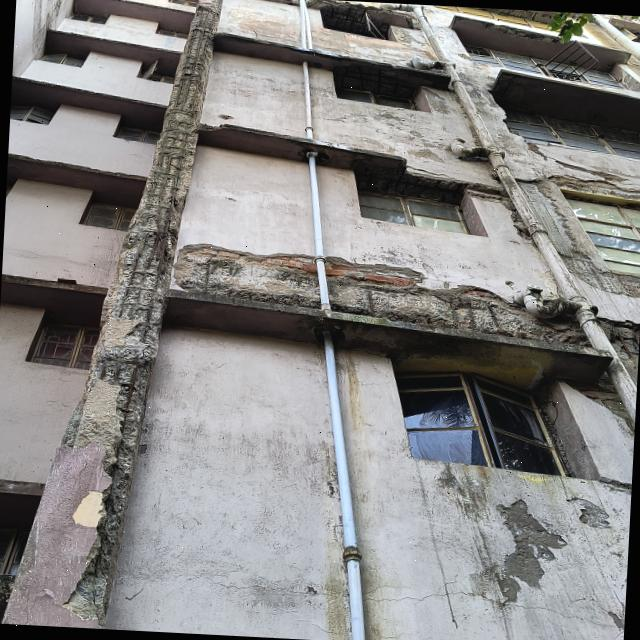peeling: (232, 2, 640, 302), (445, 472, 629, 633), (164, 185, 173, 193)
spalling: (4, 0, 223, 629), (325, 257, 589, 346), (450, 14, 629, 72), (175, 244, 320, 309), (320, 4, 385, 39), (400, 166, 407, 175), (239, 279, 247, 286), (443, 175, 448, 179)
